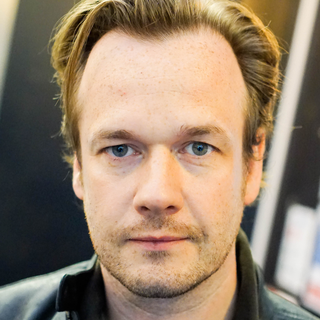eye: (98, 139, 144, 165), (176, 138, 222, 163)
